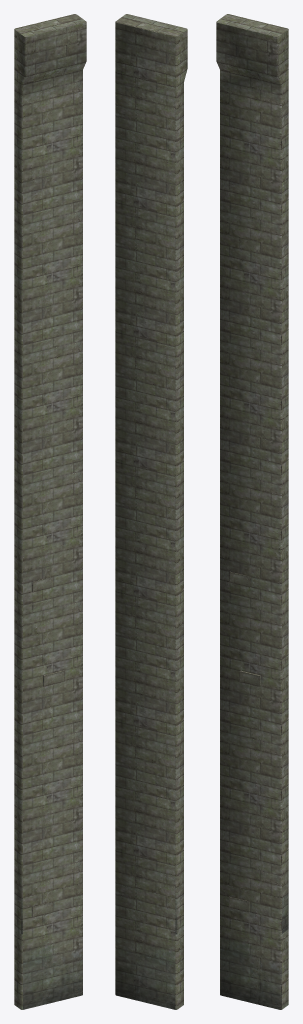
Rendered from bigwallfill.fbx.
3 views of the same model, side by side, from view 1: azimuth 30°, elevation 25°; view 2: azimuth 150°, elevation 25°; view 3: azimuth 330°, elevation 25° (orthographic).
Visible parts, largest first — view 1: Mesh Object; view 2: Mesh Object; view 3: Mesh Object.
Boxes of the visible parts, box(x1,y1,x2,y2) form: Mesh Object: box(14, 14, 86, 1009); Mesh Object: box(115, 14, 187, 1009); Mesh Object: box(216, 14, 288, 1009).
Size of the model in its own units: 1 by 15 by 0.326.
